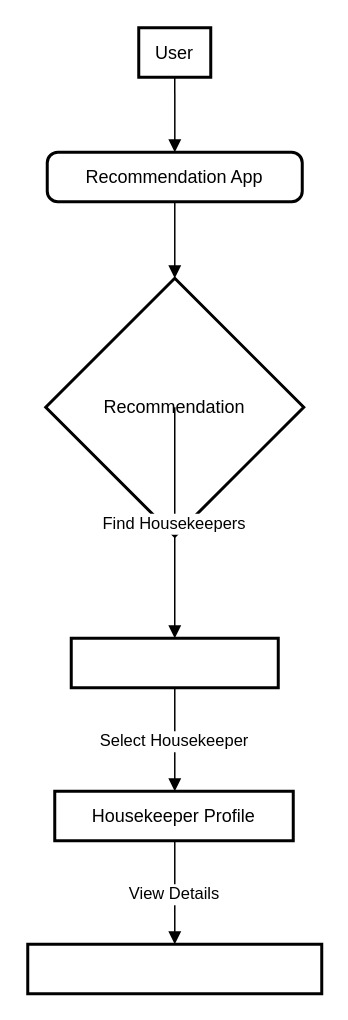
This 348x1020 diagram has some shape labels left out. Each missing label, with the centre of its shape:
"Housekeeper Information" belongs at pixel 174 968.
"Housekeeper List" belongs at pixel 174 662.
